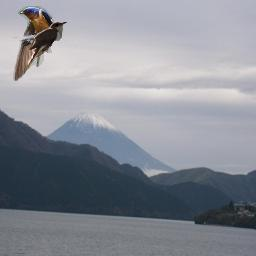Cuckoo: (26, 21, 67, 71)
Swallow: (13, 6, 60, 81)
